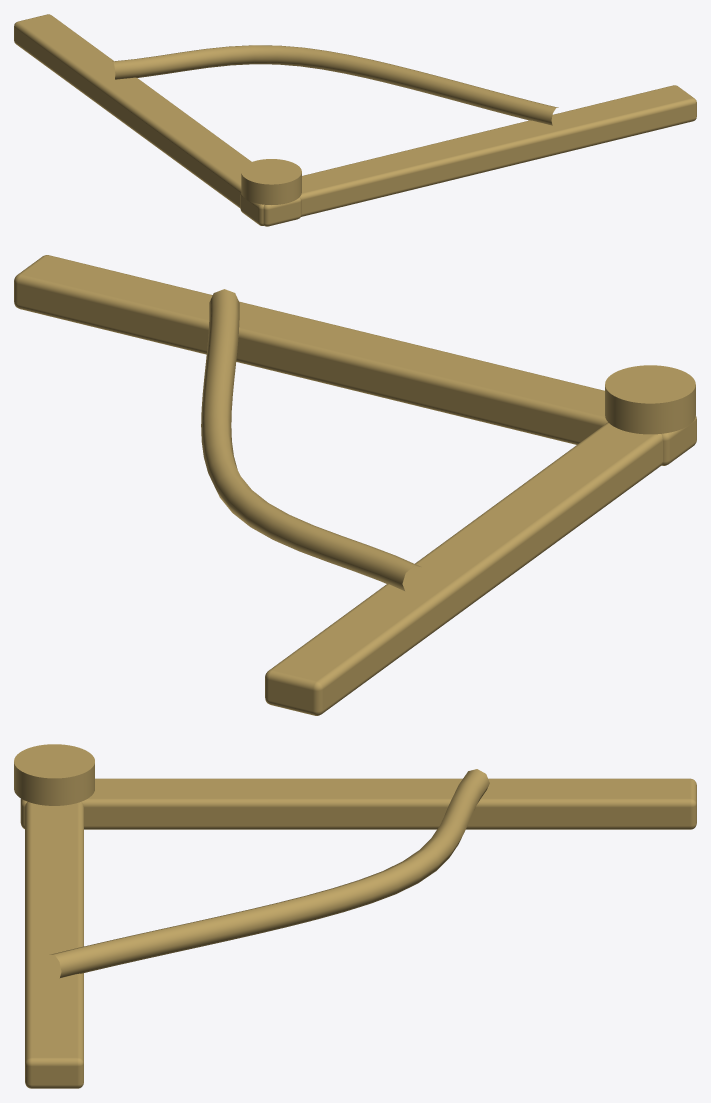
File: fantasy-cartographers-map-printing-guild-hinged-drafti-90c43e14__32233.glb
3 renders of one model, top to bottom at view 1: azimuth 30°, elevation 25°; view 2: azimuth 150°, elevation 25°; view 3: azimuth 270°, elevation 25°, orthographic. The views are drawn at different scales.
Visible parts, largest first — view 1: hinged-drafting-square; view 2: hinged-drafting-square; view 3: hinged-drafting-square.
Part boxes in pixels (x1=…): hinged-drafting-square: x1=14, y1=14, x2=696, y2=226; hinged-drafting-square: x1=14, y1=255, x2=696, y2=715; hinged-drafting-square: x1=14, y1=744, x2=696, y2=1088.
Size of the model in its own units: 0.404 by 0.038 by 0.404.
